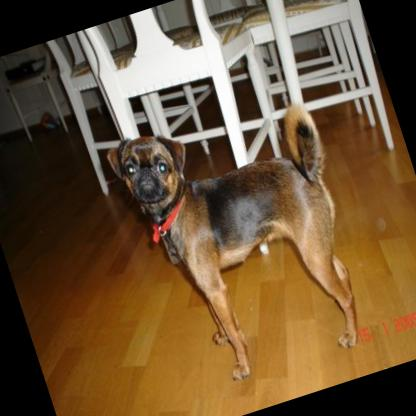Brabancon_griffon: (102, 77, 388, 400)
